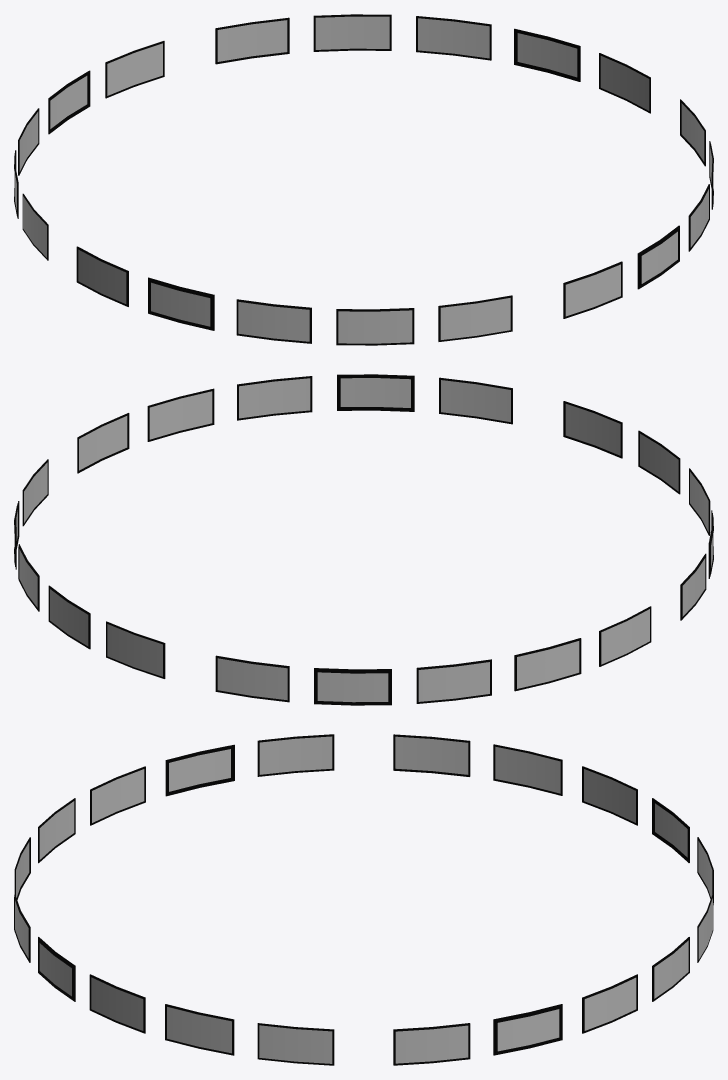
Rendered from MEO_Wall_Pictures.fbx.
3 renders of one model, top to bottom at view 1: azimuth 30°, elevation 25°; view 2: azimuth 150°, elevation 25°; view 3: azimuth 270°, elevation 25°, orthographic.
Visible parts, largest first — view 1: RFL_Wall_Pictures; view 2: RFL_Wall_Pictures; view 3: RFL_Wall_Pictures.
Boxes of the visible parts, bbox=[...] form: RFL_Wall_Pictures: bbox=[14, 14, 713, 345]; RFL_Wall_Pictures: bbox=[14, 374, 713, 705]; RFL_Wall_Pictures: bbox=[14, 734, 713, 1065].
Bounding box in the file's own units: 2635 × 149 × 2635.
